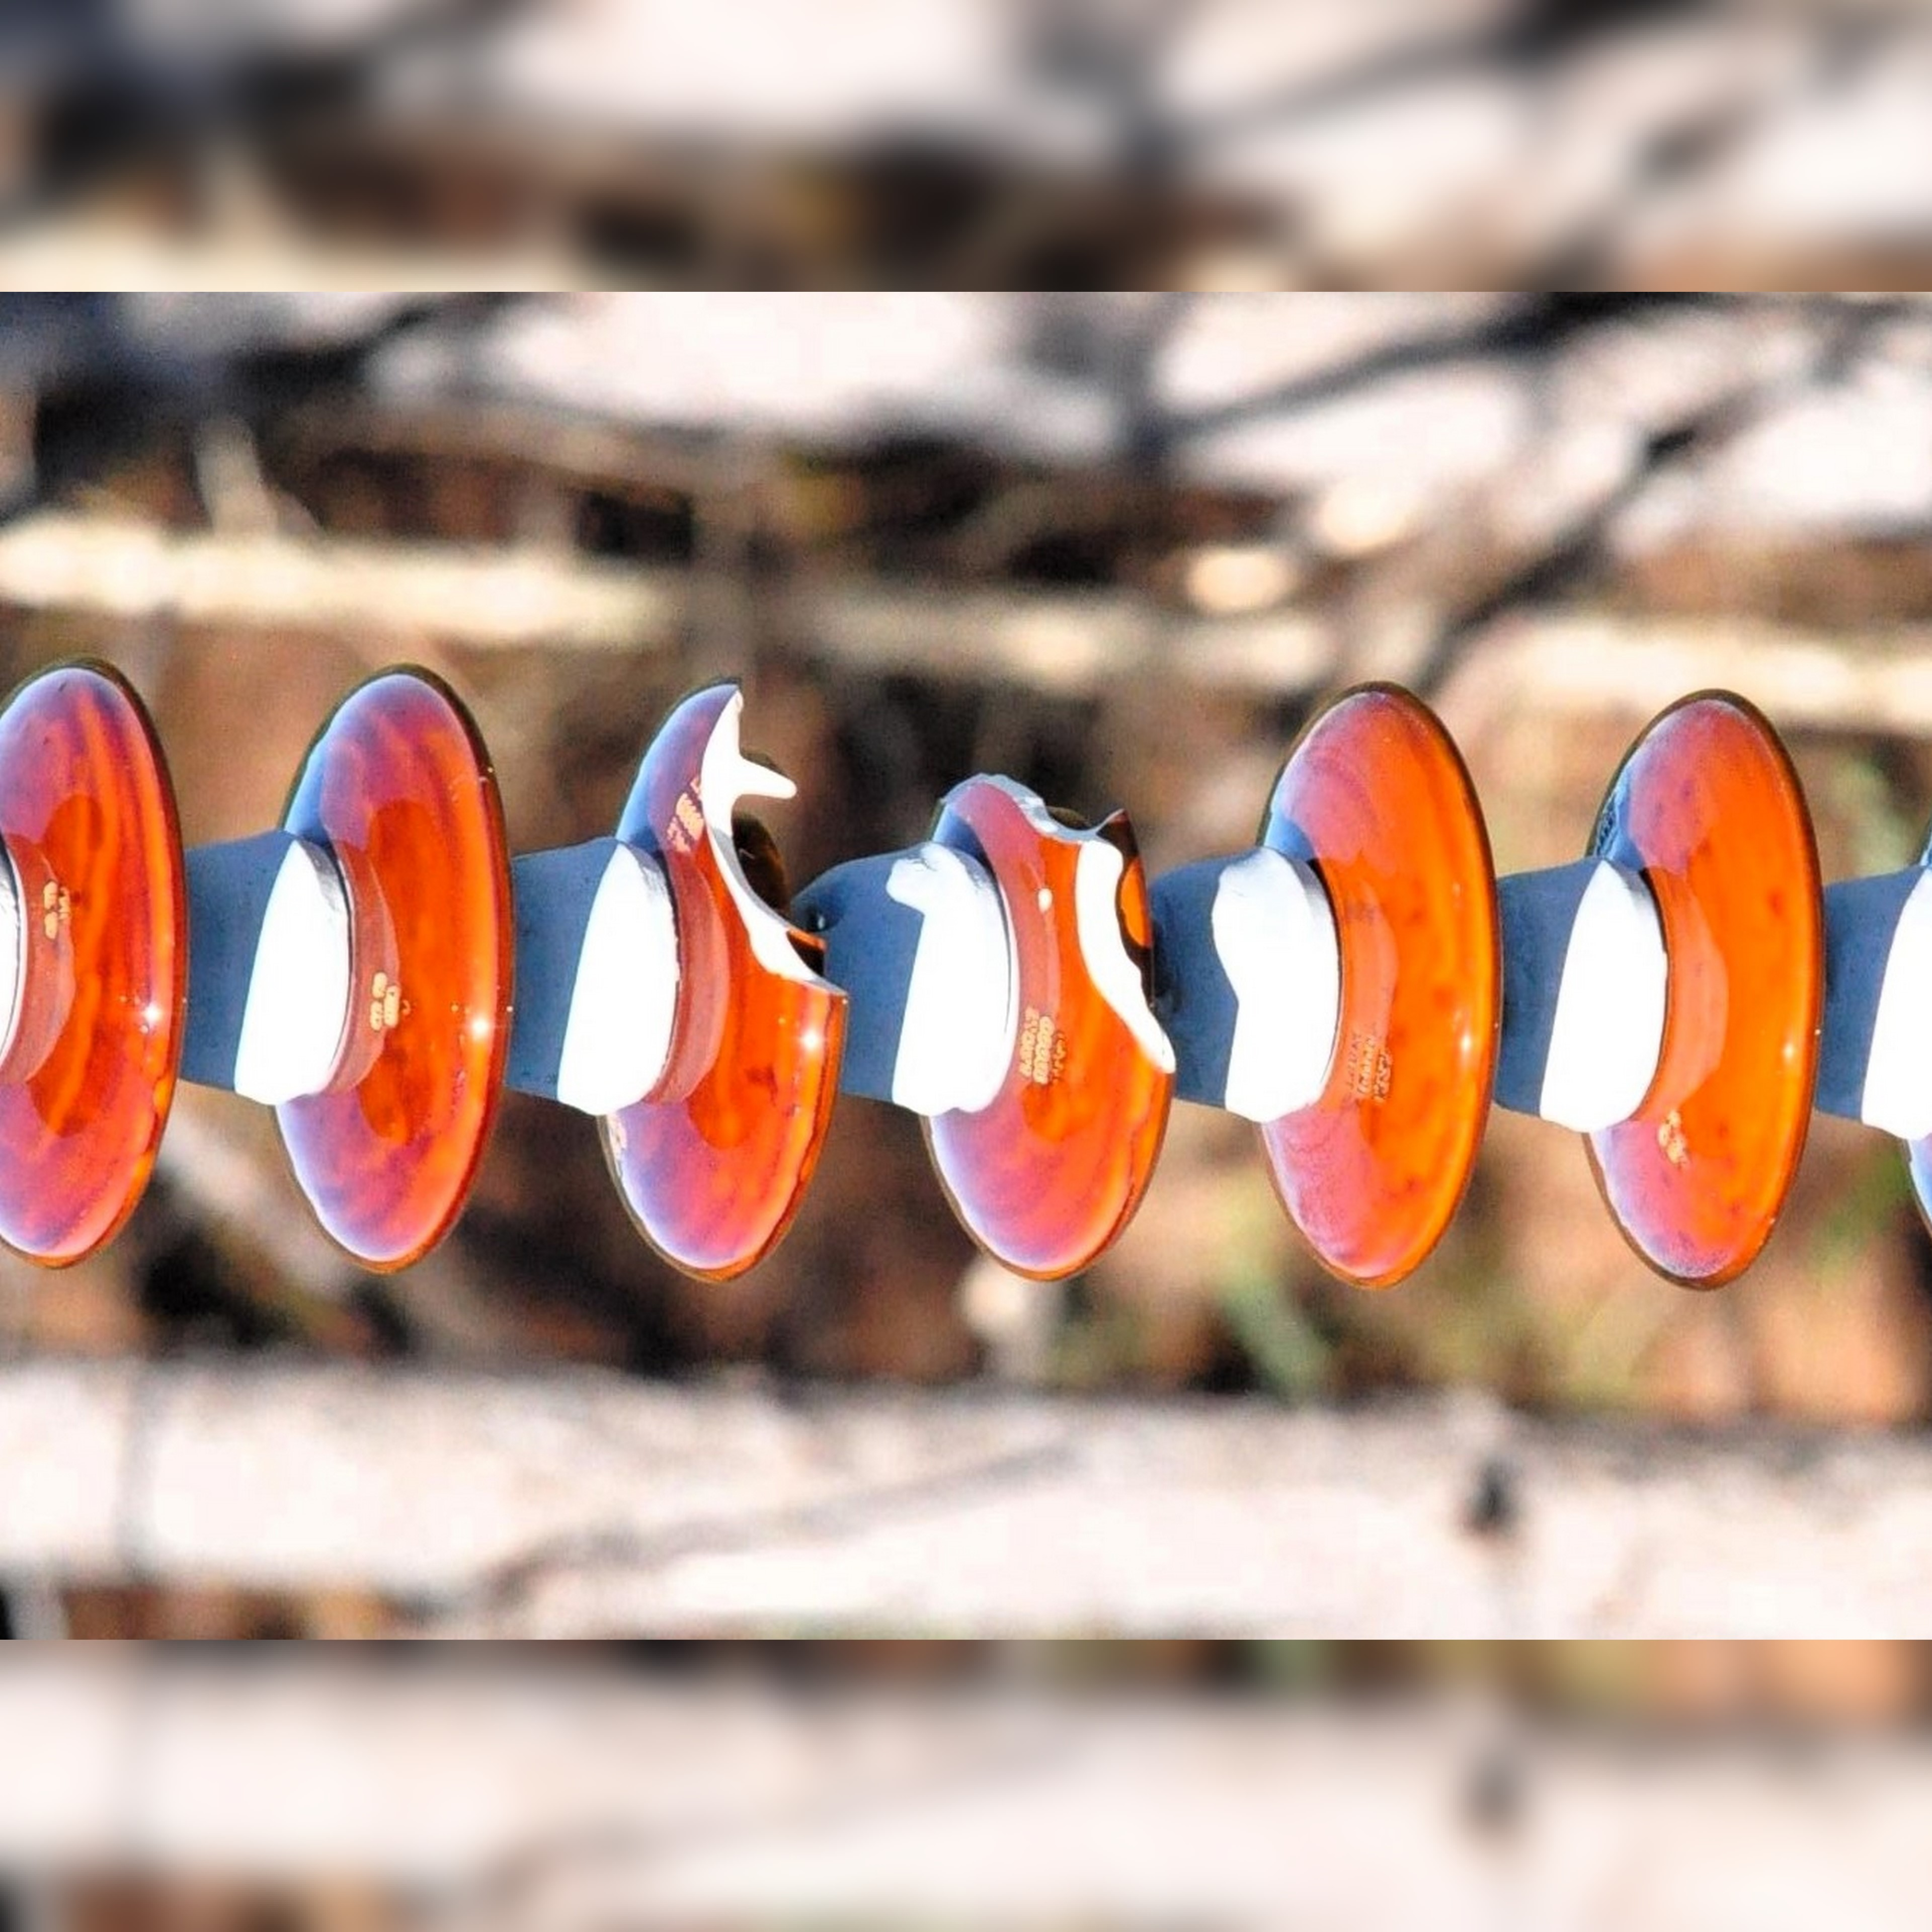insulator breakage: (584, 671, 869, 1284), (916, 729, 1198, 1300)
